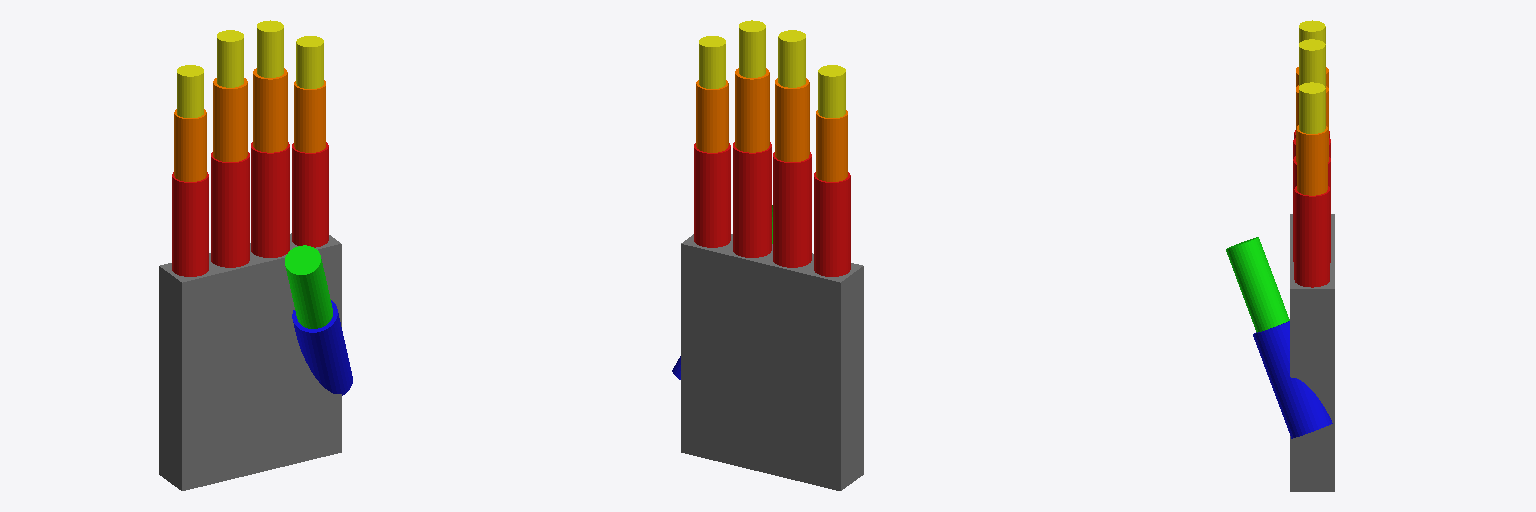
The robot description file, URDF, robot "hand_3r_glove":
<?xml version="1.0"?>
<robot name="hand_3r_glove">

<link name="world"/>
<joint name="world_to_palm" type="fixed">
  <parent link="world"/>
  <child link="palm_link"/>
  <origin xyz="0 0 0" rpy="0 0 0"/>
</joint>

  <!-- ==================== DICHIARAZIONE MATERIALI GLOBALI ==================== -->
  <material name="grey">
    <color rgba="0.5 0.5 0.5 1.0"/>
  </material>
  <material name="red">
    <color rgba="0.9 0.1 0.1 1.0"/>
  </material>
  <material name="orange">
    <color rgba="1.0 0.5 0.0 1.0"/>
  </material>
  <material name="yellow">
    <color rgba="0.9 0.9 0.1 1.0"/>
  </material>
  <material name="blue">
    <color rgba="0.1 0.1 0.9 1.0"/>
  </material>
  <material name="green">
    <color rgba="0.1 0.9 0.1 1.0"/>
  </material>

  <!-- PALMO (Base di ancoraggio rigida del guanto) -->
  <link name="palm_link">
    <visual>
      <origin xyz="0 0 0.05" rpy="0 0 0"/>
      <geometry>
        <box size="0.08 0.02 0.1"/>
      </geometry>
      <material name="grey"/>
    </visual>
    <collision>
      <origin xyz="0 0 0.05" rpy="0 0 0"/>
      <geometry>
        <box size="0.08 0.02 0.1"/>
      </geometry>
    </collision>
    <inertial>
      <mass value="0.25"/>
      <inertia ixx="0.0002" ixy="0.0" ixz="0.0" iyy="0.0002" iyz="0.0" izz="0.0001"/>
    </inertial>
  </link>

  <!-- ==================== DITO INDICE (Catena 3R, X = 0.03) ==================== -->
  <link name="index_proximal_link">
    <visual>
      <origin xyz="0 0 0.0225" rpy="0 0 0"/>
      <geometry>
        <cylinder length="0.045" radius="0.008"/>
      </geometry>
      <material name="red"/>
    </visual>
    <collision>
      <origin xyz="0 0 0.0225" rpy="0 0 0"/>
      <geometry>
        <cylinder length="0.045" radius="0.008"/>
      </geometry>
    </collision>
    <inertial>
      <mass value="0.02"/>
      <inertia ixx="0.000003" ixy="0.0" ixz="0.0" iyy="0.000003" iyz="0.0" izz="0.000001"/>
    </inertial>
  </link>

  <joint name="index_mcp_joint" type="revolute">
    <parent link="palm_link"/>
    <child link="index_proximal_link"/>
    <origin xyz="0.03 0.0 0.1" rpy="0 0 0"/>
    <axis xyz="1 0 0"/>
    <limit effort="5.0" lower="0.0" upper="1.57" velocity="1.5"/>
  </joint>

  <link name="index_middle_link">
    <visual>
      <origin xyz="0 0 0.015" rpy="0 0 0"/>
      <geometry>
        <cylinder length="0.03" radius="0.007"/>
      </geometry>
      <material name="orange"/>
    </visual>
    <collision>
      <origin xyz="0 0 0.015" rpy="0 0 0"/>
      <geometry>
        <cylinder length="0.03" radius="0.007"/>
      </geometry>
    </collision>
    <inertial>
      <mass value="0.015"/>
      <inertia ixx="0.000001" ixy="0.0" ixz="0.0" iyy="0.000001" iyz="0.0" izz="0.0000005"/>
    </inertial>
  </link>

  <joint name="index_pip_joint" type="revolute">
    <parent link="index_proximal_link"/>
    <child link="index_middle_link"/>
    <origin xyz="0.0 0.0 0.045" rpy="0 0 0"/>
    <axis xyz="1 0 0"/>
    <limit effort="3.0" lower="0.0" upper="1.74" velocity="2.0"/>
  </joint>

  <link name="index_distal_link">
    <visual>
      <origin xyz="0 0 0.01" rpy="0 0 0"/>
      <geometry>
        <cylinder length="0.02" radius="0.006"/>
      </geometry>
      <material name="yellow"/>
    </visual>
    <collision>
      <origin xyz="0 0 0.01" rpy="0 0 0"/>
      <geometry>
        <cylinder length="0.02" radius="0.006"/>
      </geometry>
    </collision>
    <inertial>
      <mass value="0.01"/>
      <inertia ixx="0.0000005" ixy="0.0" ixz="0.0" iyy="0.0000005" iyz="0.0" izz="0.0000002"/>
    </inertial>
  </link>

  <joint name="index_dip_joint" type="revolute">
    <parent link="index_middle_link"/>
    <child link="index_distal_link"/>
    <origin xyz="0.0 0.0 0.03" rpy="0 0 0"/>
    <axis xyz="1 0 0"/>
    <limit effort="2.0" lower="0.0" upper="1.39" velocity="2.5"/>
  </joint>

  <!-- ==================== DITO MEDIO (Catena 3R, X = 0.01) ==================== -->
  <link name="middle_proximal_link">
    <visual>
      <origin xyz="0 0 0.025" rpy="0 0 0"/>
      <geometry>
        <cylinder length="0.05" radius="0.0085"/>
      </geometry>
      <material name="red"/>
    </visual>
    <collision>
      <origin xyz="0 0 0.025" rpy="0 0 0"/>
      <geometry>
        <cylinder length="0.05" radius="0.0085"/>
      </geometry>
    </collision>
    <inertial>
      <mass value="0.022"/>
      <inertia ixx="0.000004" ixy="0.0" ixz="0.0" iyy="0.000004" iyz="0.0" izz="0.000001"/>
    </inertial>
  </link>

  <joint name="middle_mcp_joint" type="revolute">
    <parent link="palm_link"/>
    <child link="middle_proximal_link"/>
    <origin xyz="0.01 0.0 0.1" rpy="0 0 0"/>
    <axis xyz="1 0 0"/>
    <limit effort="5.0" lower="0.0" upper="1.57" velocity="1.5"/>
  </joint>

  <link name="middle_middle_link">
    <visual>
      <origin xyz="0 0 0.0175" rpy="0 0 0"/>
      <geometry>
        <cylinder length="0.035" radius="0.0075"/>
      </geometry>
      <material name="orange"/>
    </visual>
    <collision>
      <origin xyz="0 0 0.0175" rpy="0 0 0"/>
      <geometry>
        <cylinder length="0.035" radius="0.0075"/>
      </geometry>
    </collision>
    <inertial>
      <mass value="0.017"/>
      <inertia ixx="0.000002" ixy="0.0" ixz="0.0" iyy="0.000002" iyz="0.0" izz="0.0000006"/>
    </inertial>
  </link>

  <joint name="middle_pip_joint" type="revolute">
    <parent link="middle_proximal_link"/>
    <child link="middle_middle_link"/>
    <origin xyz="0.0 0.0 0.05" rpy="0 0 0"/>
    <axis xyz="1 0 0"/>
    <limit effort="3.0" lower="0.0" upper="1.74" velocity="2.0"/>
  </joint>

  <link name="middle_distal_link">
    <visual>
      <origin xyz="0 0 0.011" rpy="0 0 0"/>
      <geometry>
        <cylinder length="0.022" radius="0.006"/>
      </geometry>
      <material name="yellow"/>
    </visual>
    <collision>
      <origin xyz="0 0 0.011" rpy="0 0 0"/>
      <geometry>
        <cylinder length="0.022" radius="0.006"/>
      </geometry>
    </collision>
    <inertial>
      <mass value="0.011"/>
      <inertia ixx="0.0000006" ixy="0.0" ixz="0.0" iyy="0.0000006" iyz="0.0" izz="0.0000002"/>
    </inertial>
  </link>

  <joint name="middle_dip_joint" type="revolute">
    <parent link="middle_middle_link"/>
    <child link="middle_distal_link"/>
    <origin xyz="0.0 0.0 0.035" rpy="0 0 0"/>
    <axis xyz="1 0 0"/>
    <limit effort="2.0" lower="0.0" upper="1.39" velocity="2.5"/>
  </joint>

  <!-- ==================== DITO ANULARE (Catena 3R, X = -0.01) ==================== -->
  <link name="ring_proximal_link">
    <visual>
      <origin xyz="0 0 0.025" rpy="0 0 0"/>
      <geometry>
        <cylinder length="0.05" radius="0.0085"/>
      </geometry>
      <material name="red"/>
    </visual>
    <collision>
      <origin xyz="0 0 0.025" rpy="0 0 0"/>
      <geometry>
        <cylinder length="0.05" radius="0.0085"/>
      </geometry>
    </collision>
    <inertial>
      <mass value="0.022"/>
      <inertia ixx="0.000004" ixy="0.0" ixz="0.0" iyy="0.000004" iyz="0.0" izz="0.000001"/>
    </inertial>
  </link>

  <joint name="ring_mcp_joint" type="revolute">
    <parent link="palm_link"/>
    <child link="ring_proximal_link"/>
    <origin xyz="-0.01 0.0 0.1" rpy="0 0 0"/>
    <axis xyz="1 0 0"/>
    <limit effort="5.0" lower="0.0" upper="1.57" velocity="1.5"/>
  </joint>

  <link name="ring_middle_link">
    <visual>
      <origin xyz="0 0 0.0175" rpy="0 0 0"/>
      <geometry>
        <cylinder length="0.035" radius="0.0075"/>
      </geometry>
      <material name="orange"/>
    </visual>
    <collision>
      <origin xyz="0 0 0.0175" rpy="0 0 0"/>
      <geometry>
        <cylinder length="0.035" radius="0.0075"/>
      </geometry>
    </collision>
    <inertial>
      <mass value="0.017"/>
      <inertia ixx="0.000002" ixy="0.0" ixz="0.0" iyy="0.000002" iyz="0.0" izz="0.0000006"/>
    </inertial>
  </link>

  <joint name="ring_pip_joint" type="revolute">
    <parent link="ring_proximal_link"/>
    <child link="ring_middle_link"/>
    <origin xyz="0.0 0.0 0.05" rpy="0 0 0"/>
    <axis xyz="1 0 0"/>
    <limit effort="3.0" lower="0.0" upper="1.74" velocity="2.0"/>
  </joint>

  <link name="ring_distal_link">
    <visual>
      <origin xyz="0 0 0.011" rpy="0 0 0"/>
      <geometry>
        <cylinder length="0.022" radius="0.006"/>
      </geometry>
      <material name="yellow"/>
    </visual>
    <collision>
      <origin xyz="0 0 0.011" rpy="0 0 0"/>
      <geometry>
        <cylinder length="0.022" radius="0.006"/>
      </geometry>
    </collision>
    <inertial>
      <mass value="0.011"/>
      <inertia ixx="0.0000006" ixy="0.0" ixz="0.0" iyy="0.0000006" iyz="0.0" izz="0.0000002"/>
    </inertial>
  </link>

  <joint name="ring_dip_joint" type="revolute">
    <parent link="ring_middle_link"/>
    <child link="ring_distal_link"/>
    <origin xyz="0.0 0.0 0.035" rpy="0 0 0"/>
    <axis xyz="1 0 0"/>
    <limit effort="2.0" lower="0.0" upper="1.39" velocity="2.5"/>
  </joint>

  <!-- ==================== DITO MIGNOLO (Catena 3R, X = -0.03) ==================== -->
  <link name="pinky_proximal_link">
    <visual>
      <origin xyz="0 0 0.0225" rpy="0 0 0"/>
      <geometry>
        <cylinder length="0.045" radius="0.008"/>
      </geometry>
      <material name="red"/>
    </visual>
    <collision>
      <origin xyz="0 0 0.0225" rpy="0 0 0"/>
      <geometry>
        <cylinder length="0.045" radius="0.008"/>
      </geometry>
    </collision>
    <inertial>
      <mass value="0.02"/>
      <inertia ixx="0.000003" ixy="0.0" ixz="0.0" iyy="0.000003" iyz="0.0" izz="0.000001"/>
    </inertial>
  </link>

  <joint name="pinky_mcp_joint" type="revolute">
    <parent link="palm_link"/>
    <child link="pinky_proximal_link"/>
    <origin xyz="-0.03 0.0 0.1" rpy="0 0 0"/>
    <axis xyz="1 0 0"/>
    <limit effort="5.0" lower="0.0" upper="1.57" velocity="1.5"/>
  </joint>

  <link name="pinky_middle_link">
    <visual>
      <origin xyz="0 0 0.015" rpy="0 0 0"/>
      <geometry>
        <cylinder length="0.03" radius="0.007"/>
      </geometry>
      <material name="orange"/>
    </visual>
    <collision>
      <origin xyz="0 0 0.015" rpy="0 0 0"/>
      <geometry>
        <cylinder length="0.03" radius="0.007"/>
      </geometry>
    </collision>
    <inertial>
      <mass value="0.015"/>
      <inertia ixx="0.000001" ixy="0.0" ixz="0.0" iyy="0.000001" iyz="0.0" izz="0.0000005"/>
    </inertial>
  </link>

  <joint name="pinky_pip_joint" type="revolute">
    <parent link="pinky_proximal_link"/>
    <child link="pinky_middle_link"/>
    <origin xyz="0.0 0.0 0.045" rpy="0 0 0"/>
    <axis xyz="1 0 0"/>
    <limit effort="3.0" lower="0.0" upper="1.74" velocity="2.0"/>
  </joint>

  <link name="pinky_distal_link">
    <visual>
      <origin xyz="0 0 0.01" rpy="0 0 0"/>
      <geometry>
        <cylinder length="0.02" radius="0.006"/>
      </geometry>
      <material name="yellow"/>
    </visual>
    <collision>
      <origin xyz="0 0 0.01" rpy="0 0 0"/>
      <geometry>
        <cylinder length="0.02" radius="0.006"/>
      </geometry>
    </collision>
    <inertial>
      <mass value="0.01"/>
      <inertia ixx="0.0000005" ixy="0.0" ixz="0.0" iyy="0.0000005" iyz="0.0" izz="0.0000002"/>
    </inertial>
  </link>

  <joint name="pinky_dip_joint" type="revolute">
    <parent link="pinky_middle_link"/>
    <child link="pinky_distal_link"/>
    <origin xyz="0.0 0.0 0.03" rpy="0 0 0"/>
    <axis xyz="1 0 0"/>
    <limit effort="2.0" lower="0.0" upper="1.39" velocity="2.5"/>
  </joint>

  <!-- ==================== POLLICE (Catena 2R sul piano radiale) ==================== -->
  <link name="thumb_proximal_link">
    <visual>
      <origin xyz="0 0 0.025" rpy="0 0 0"/>
      <geometry>
        <cylinder length="0.05" radius="0.01"/>
      </geometry>
      <material name="blue"/>
    </visual>
    <collision>
      <origin xyz="0 0 0.025" rpy="0 0 0"/>
      <geometry>
        <cylinder length="0.05" radius="0.01"/>
      </geometry>
    </collision>
    <inertial>
      <mass value="0.025"/>
      <inertia ixx="0.000004" ixy="0.0" ixz="0.0" iyy="0.000004" iyz="0.0" izz="0.000001"/>
    </inertial>
  </link>

  <!-- Giunto CMC del pollice (opposizione sul piano trasversale) -->
  <joint name="thumb_cmc_joint" type="revolute">
    <parent link="palm_link"/>
    <child link="thumb_proximal_link"/>
    <origin xyz="0.04 0.0 0.03" rpy="0 -0.52 0.78"/> <!-- Orientamento biologico inclinato -->
    <axis xyz="0 0 1"/>
    <limit effort="5.0" lower="-0.52" upper="1.05" velocity="1.5"/>
  </joint>

  <link name="thumb_distal_link">
    <visual>
      <origin xyz="0 0 0.02" rpy="0 0 0"/>
      <geometry>
        <cylinder length="0.04" radius="0.008"/>
      </geometry>
      <material name="green"/>
    </visual>
    <collision>
      <origin xyz="0 0 0.02" rpy="0 0 0"/>
      <geometry>
        <cylinder length="0.04" radius="0.008"/>
      </geometry>
    </collision>
    <inertial>
      <mass value="0.015"/>
      <inertia ixx="0.000002" ixy="0.0" ixz="0.0" iyy="0.000002" iyz="0.0" izz="0.0000006"/>
    </inertial>
  </link>

  <joint name="thumb_mcp_joint" type="revolute">
    <parent link="thumb_proximal_link"/>
    <child link="thumb_distal_link"/>
    <origin xyz="0.0 0.0 0.05" rpy="0 0 0"/>
    <axis xyz="1 0 0"/>
    <limit effort="3.0" lower="0.0" upper="1.57" velocity="2.0"/>
  </joint>

</robot>

--- Facts derived from the render (not from the file) ---
The picture shows the robot from 3 angles, left to right: view 1: azimuth 30°, elevation 25°; view 2: azimuth 150°, elevation 25°; view 3: azimuth 270°, elevation 25°; orthographic projection.
Model hand_3r_glove with 16 links and 15 joints (14 revolute, 1 fixed), rooted at world, posed all joints at 0.
Visible links, largest first — view 1: palm_link, ring_proximal_link, middle_proximal_link, pinky_proximal_link, index_proximal_link, thumb_proximal_link, thumb_distal_link, middle_middle_link, ring_middle_link, pinky_middle_link, index_middle_link, ring_distal_link (+3 smaller); view 2: palm_link, ring_proximal_link, middle_proximal_link, index_proximal_link, pinky_proximal_link, middle_middle_link, ring_middle_link, index_middle_link, pinky_middle_link, ring_distal_link, middle_distal_link, pinky_distal_link (+1 smaller); view 3: palm_link, thumb_proximal_link, index_proximal_link, thumb_distal_link, index_middle_link, index_distal_link, middle_distal_link.
Link boxes in pixels (bbox=[...]): palm_link: bbox=[159, 233, 341, 490]; ring_proximal_link: bbox=[211, 152, 249, 267]; middle_proximal_link: bbox=[251, 142, 289, 257]; pinky_proximal_link: bbox=[172, 172, 208, 276]; index_proximal_link: bbox=[292, 142, 328, 247]; thumb_proximal_link: bbox=[292, 300, 352, 395]; thumb_distal_link: bbox=[285, 245, 332, 328]; middle_middle_link: bbox=[253, 68, 287, 152]; ring_middle_link: bbox=[213, 78, 247, 161]; pinky_middle_link: bbox=[174, 109, 206, 181]; index_middle_link: bbox=[294, 80, 325, 152]; ring_distal_link: bbox=[217, 30, 243, 87]; palm_link: bbox=[681, 234, 863, 490]; ring_proximal_link: bbox=[773, 152, 811, 267]; middle_proximal_link: bbox=[733, 142, 771, 257]; index_proximal_link: bbox=[694, 143, 730, 247]; pinky_proximal_link: bbox=[814, 172, 850, 276]; middle_middle_link: bbox=[735, 68, 769, 152]; ring_middle_link: bbox=[775, 78, 809, 161]; index_middle_link: bbox=[696, 80, 728, 152]; pinky_middle_link: bbox=[816, 110, 847, 181]; ring_distal_link: bbox=[778, 30, 805, 87]; middle_distal_link: bbox=[739, 20, 765, 77]; pinky_distal_link: bbox=[818, 65, 845, 117]; palm_link: bbox=[1290, 214, 1334, 491]; thumb_proximal_link: bbox=[1253, 321, 1332, 438]; index_proximal_link: bbox=[1294, 186, 1329, 287]; thumb_distal_link: bbox=[1226, 237, 1289, 332]; index_middle_link: bbox=[1297, 125, 1327, 195]; index_distal_link: bbox=[1299, 82, 1325, 133]; middle_distal_link: bbox=[1299, 39, 1325, 87].
Bounding box of the posed robot: 0.0893 × 0.0489 × 0.207 m (x, y, z).
Geometry: primitives only (box / cylinder / sphere), no mesh files.
